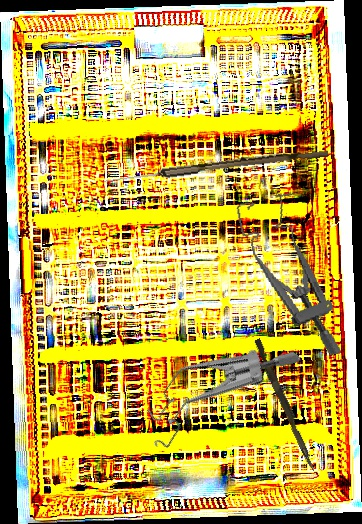Pusher: (250, 338, 321, 472)
Speculum: (131, 301, 303, 486), (235, 188, 343, 368)
Surgical Spoon: (103, 145, 329, 188)
